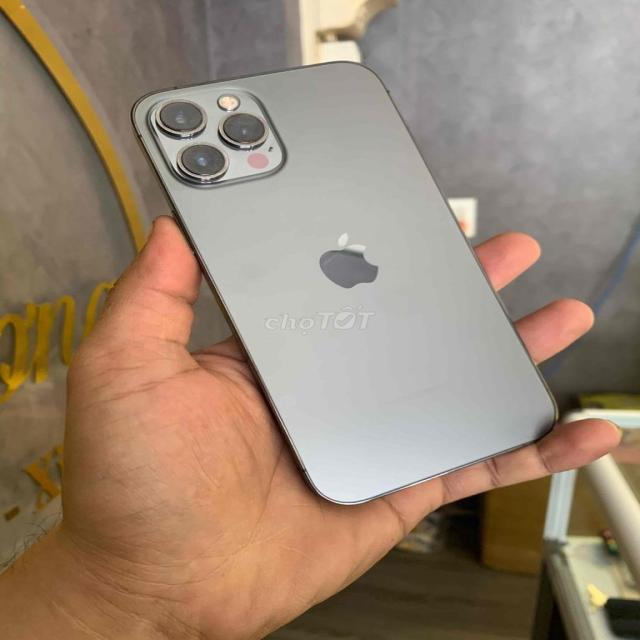gen_12_13: (126, 63, 566, 505)
